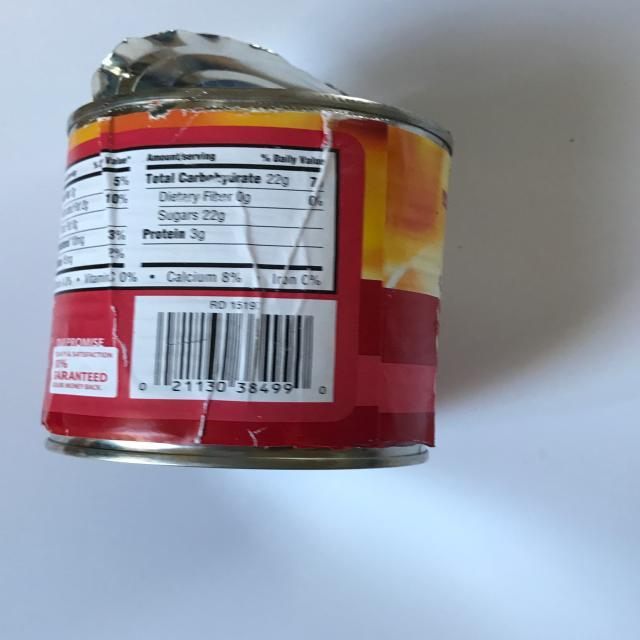metal: (34, 27, 452, 469)
